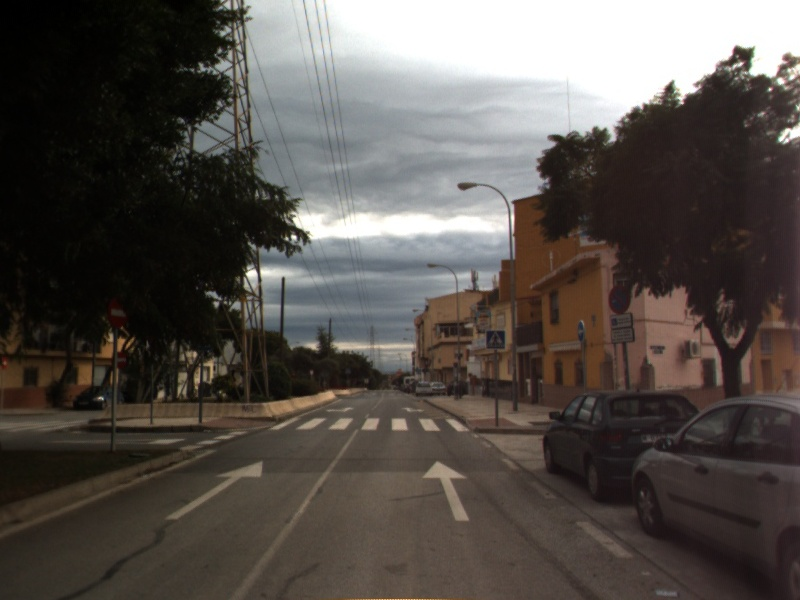STRAIGHT: (162, 459, 265, 522), (419, 458, 472, 523)
STRAIGHT_LEFT: (324, 404, 357, 414)
STRAIGHT_RIGHT: (399, 404, 427, 415)
